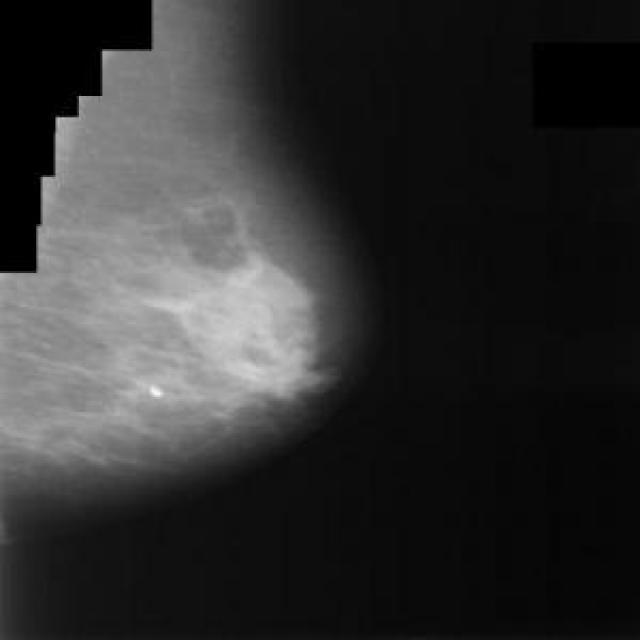tumor: (138, 246, 322, 411)
